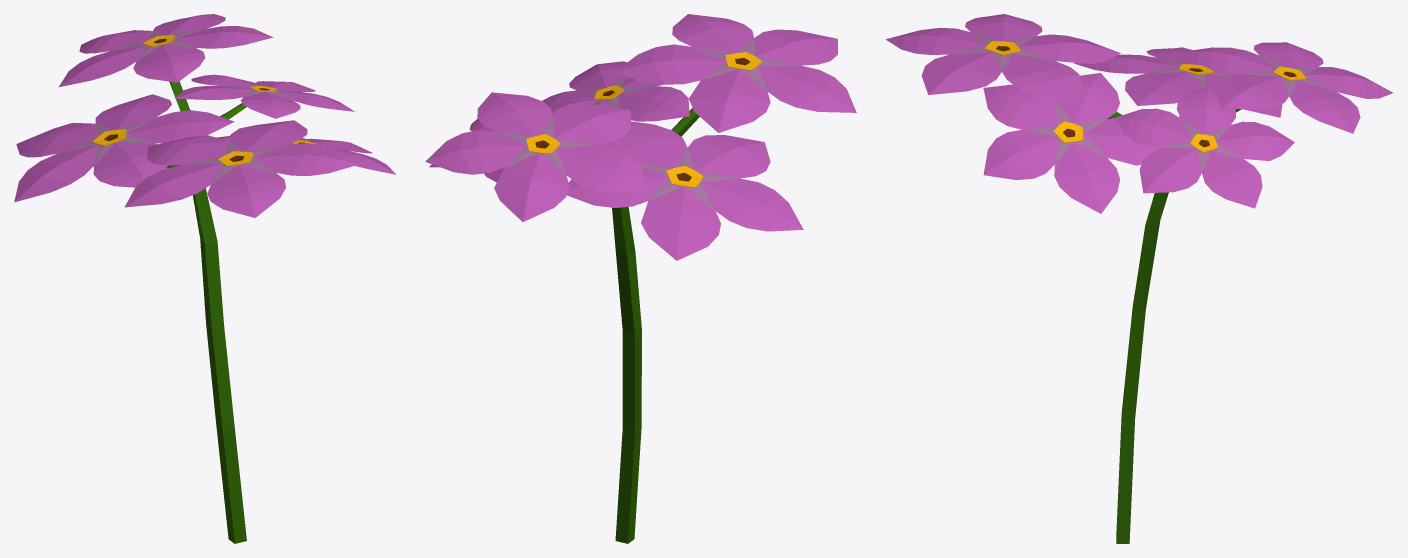
The model's file is Vergissmeinnicht.fbx Der Allerechte.fbx.
3 renders of one model, left to right at view 1: azimuth 30°, elevation 25°; view 2: azimuth 150°, elevation 25°; view 3: azimuth 270°, elevation 25°, orthographic. The views are drawn at different scales.
Visible parts, largest first — view 1: Blätter, Stil, Stern, Kern; view 2: Blätter, Stil, Stern, Kern; view 3: Blätter, Stil, Stern, Kern.
Part boxes in pixels (x1,y1,x2,y2): Blätter: [14, 14, 396, 217]; Stil: [166, 81, 246, 543]; Stern: [59, 29, 346, 184]; Kern: [92, 35, 317, 166]; Blätter: [425, 14, 856, 260]; Stil: [612, 108, 699, 543]; Stern: [497, 38, 799, 210]; Kern: [526, 52, 762, 187]; Blätter: [886, 14, 1393, 213]; Stil: [1107, 109, 1241, 543]; Stern: [950, 32, 1335, 172]; Kern: [985, 41, 1305, 152].
Size of the model in its own units: 1399 by 1854 by 1781.
